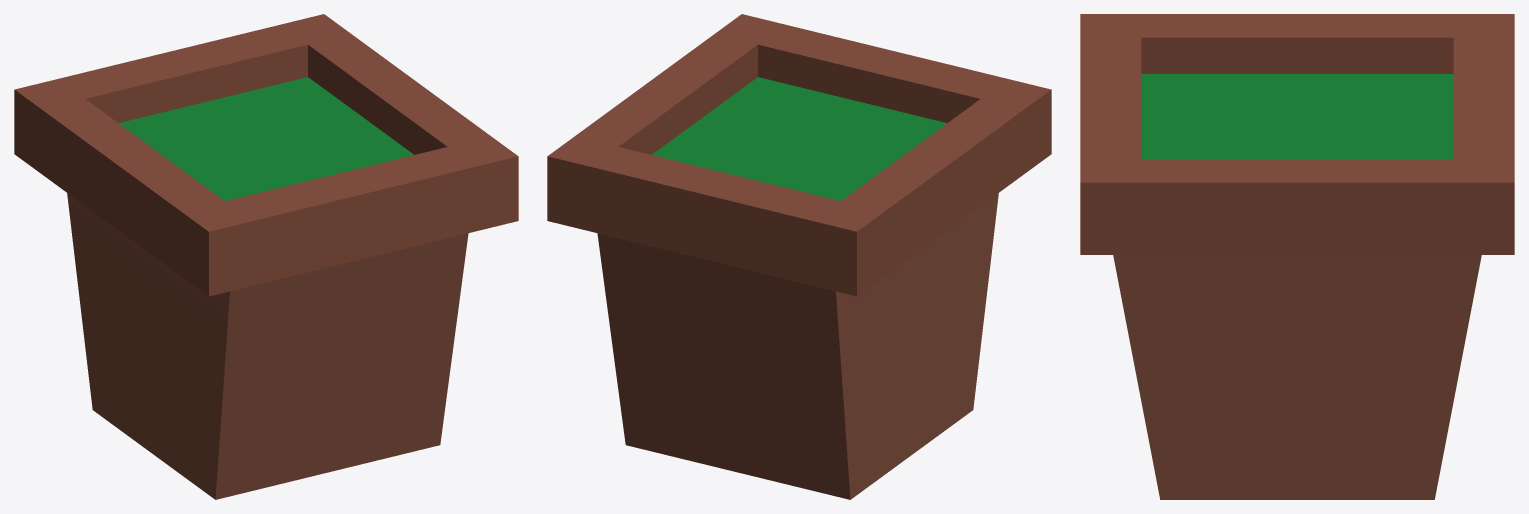
Rendered from FlowerPot_5_3_G.fbx.
3 views of the same model, side by side, from view 1: azimuth 30°, elevation 25°; view 2: azimuth 150°, elevation 25°; view 3: azimuth 270°, elevation 25° (orthographic). The views are drawn at different scales.
Visible parts, largest first — view 1: FlowerPot_5_3_G; view 2: FlowerPot_5_3_G; view 3: FlowerPot_5_3_G.
Part boxes in pixels (x1,y1,x2,y2): FlowerPot_5_3_G: (14,14,518,499); FlowerPot_5_3_G: (547,14,1051,499); FlowerPot_5_3_G: (1080,14,1514,499).
Size of the model in its own units: 32.46 by 30.52 by 35.3.
